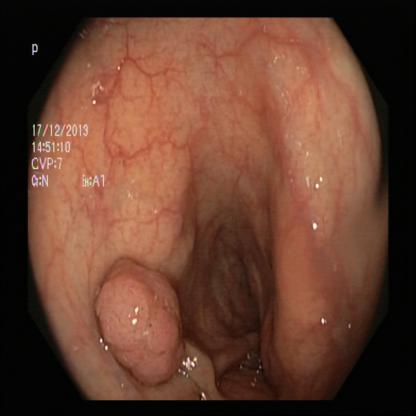Labels: (30, 112, 111, 201)
Polyps: (91, 261, 193, 383)
